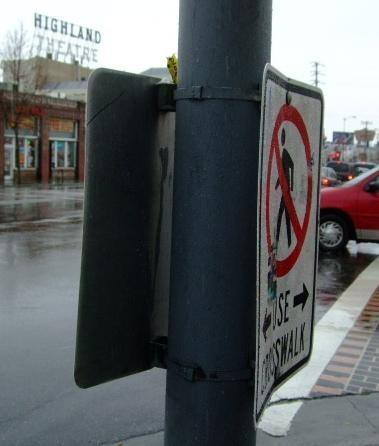car: (319, 164, 379, 255), (326, 161, 362, 181), (320, 166, 342, 188), (356, 162, 375, 174)
